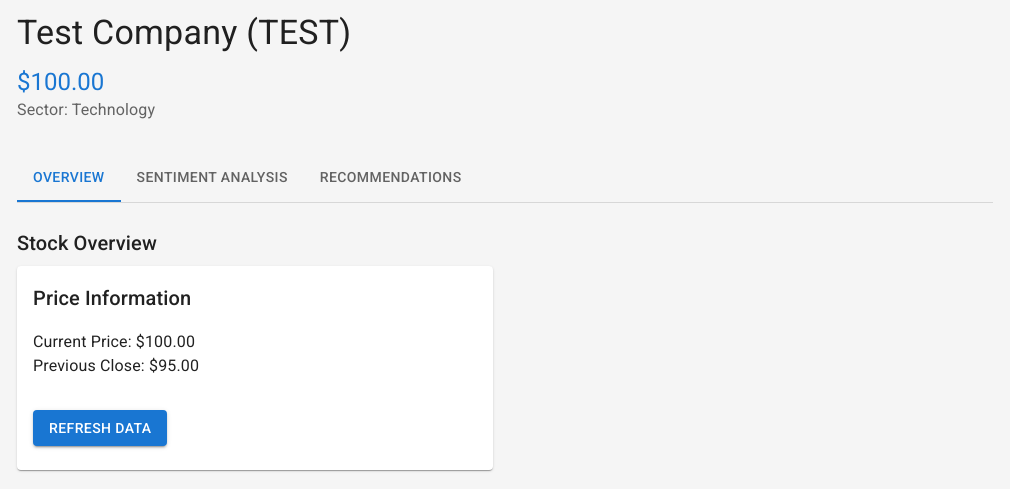
Test case: StockDetails Component › shows recommendation error if API fails
This screenshot has width=1010, height=489.
Step 1. Click the tab "Recommendations" → (391, 178), box x1=304 y1=154 x2=478 y2=202
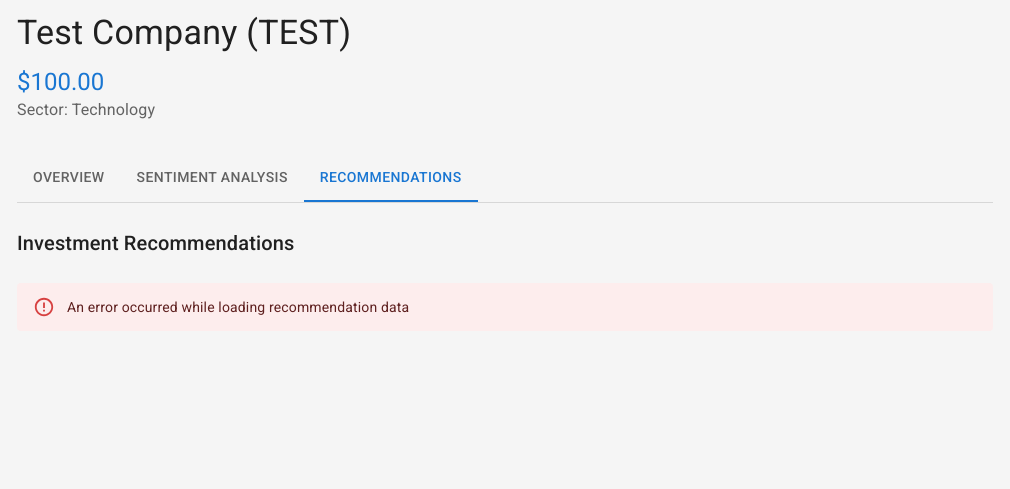
Check: the text "An error occurred while loading recommendation data" is shown, box x1=67 y1=299 x2=409 y2=315
